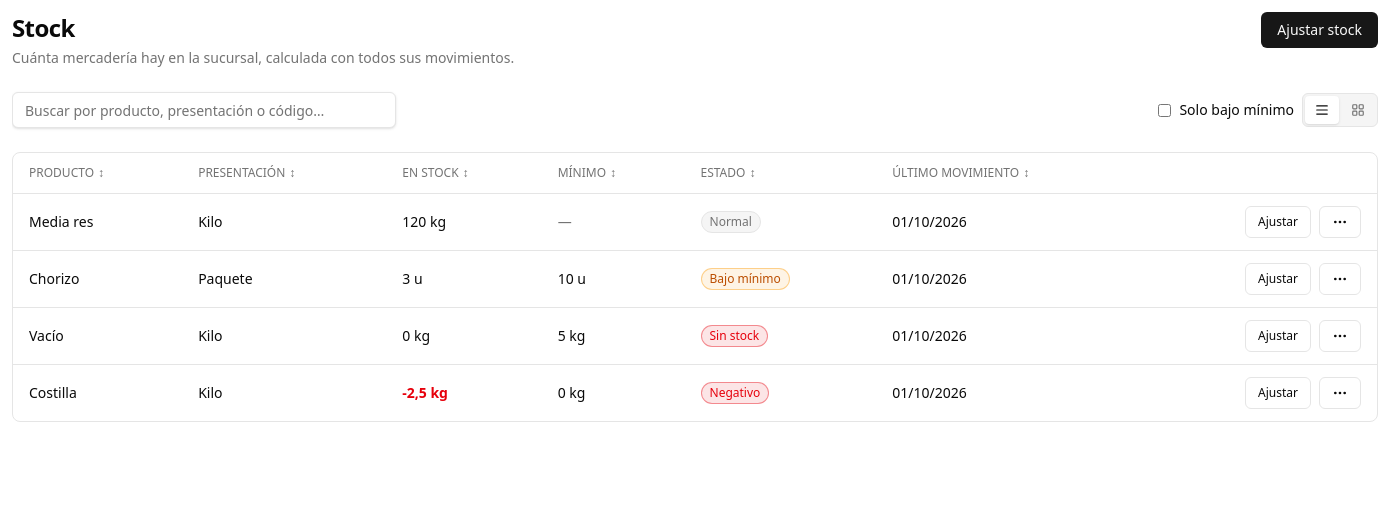
Scenario: StockScreen › registers a shrinkage as a negative quantity with its reason
This screenshot has width=1390, height=509.
Click the button "Ajustar" in the row of "Media res" at (1278, 222), box [1245, 206, 1311, 238]
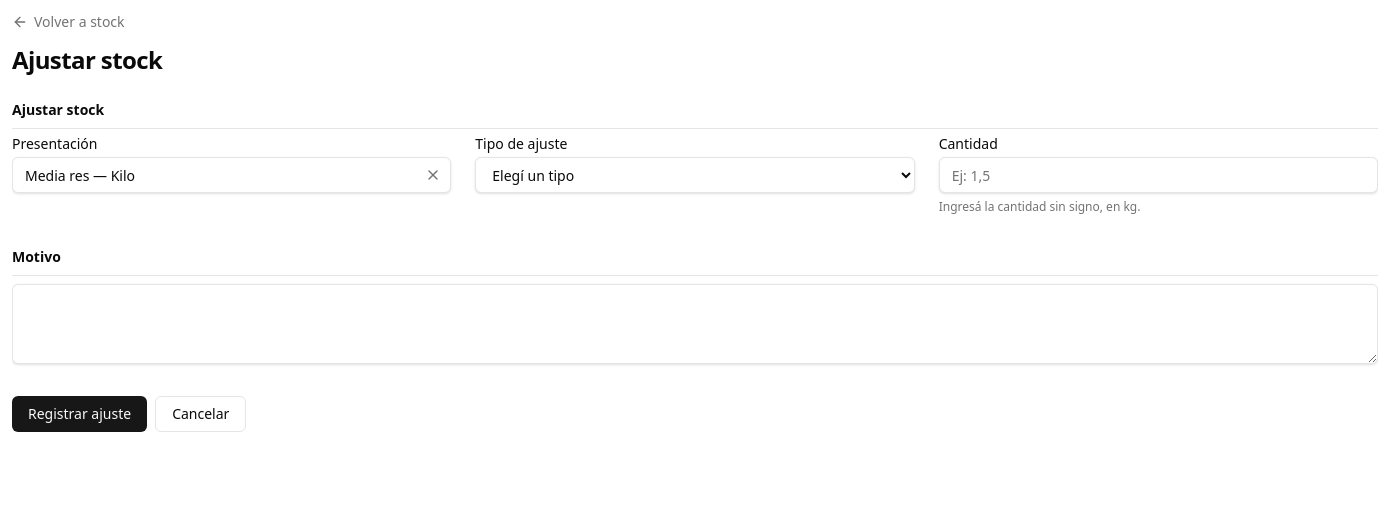
Select "Merma" in the dropdown labelled "Tipo de ajuste" at (695, 175), box [475, 157, 915, 193]
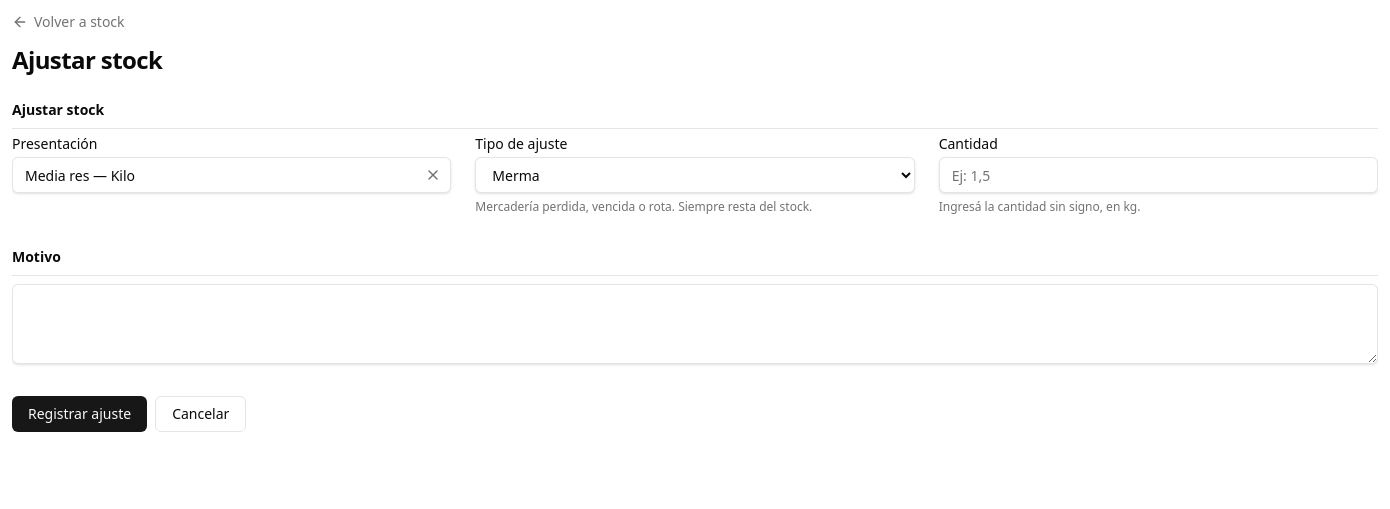
Check: the text "Mercadería perdida, vencida o rota. Siempre resta del stock." is shown, box [475, 198, 812, 215]
Type "2,5" into the field labelled "Cantidad" at (1158, 175), box [939, 157, 1378, 193]
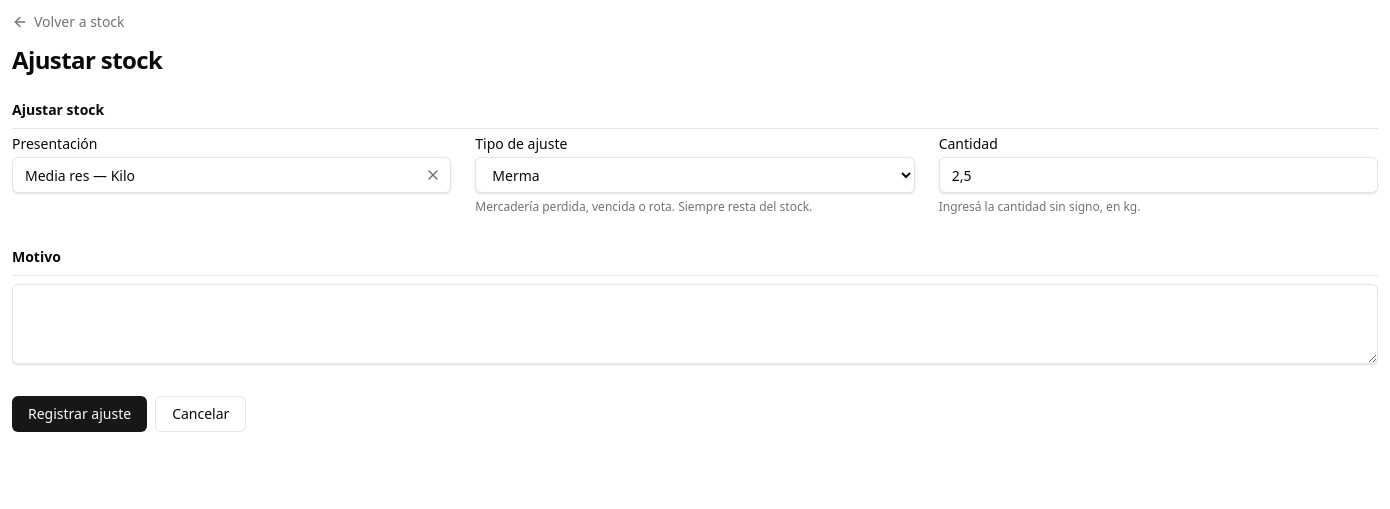
Type "Se venció" into the text box named "Motivo" at (695, 324), box [12, 284, 1378, 364]
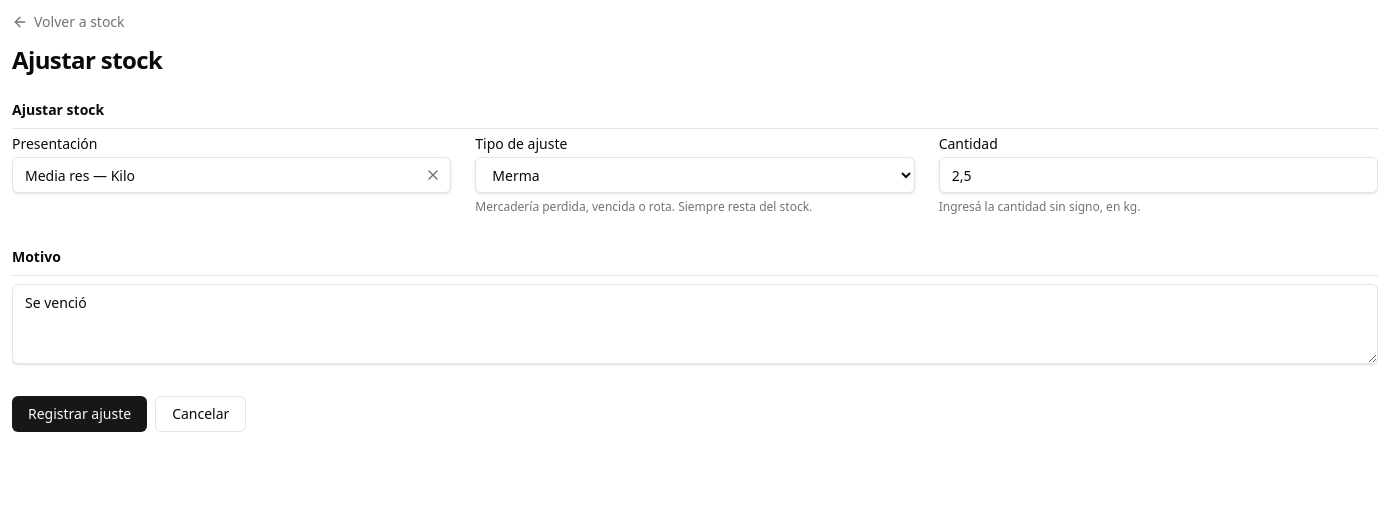
Click the button "Registrar ajuste" at (80, 414), box [12, 396, 147, 432]
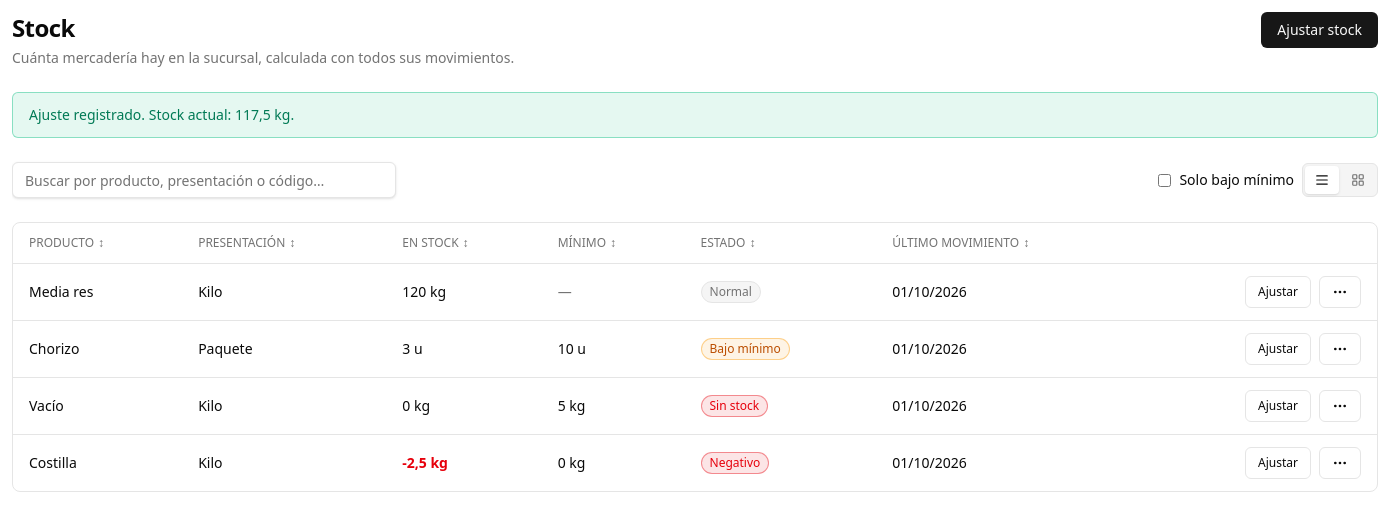
Check: the text "Ajuste registrado. Stock actual: 117,5 kg." is shown, box [12, 92, 1378, 138]
